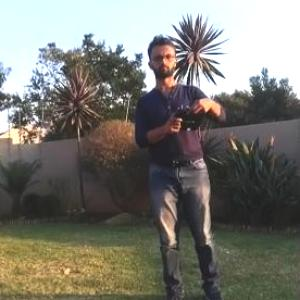follow: (130, 27, 234, 299)
